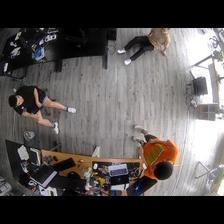fall: (118, 27, 172, 66)
normal: (9, 83, 76, 136), (129, 123, 178, 179)
